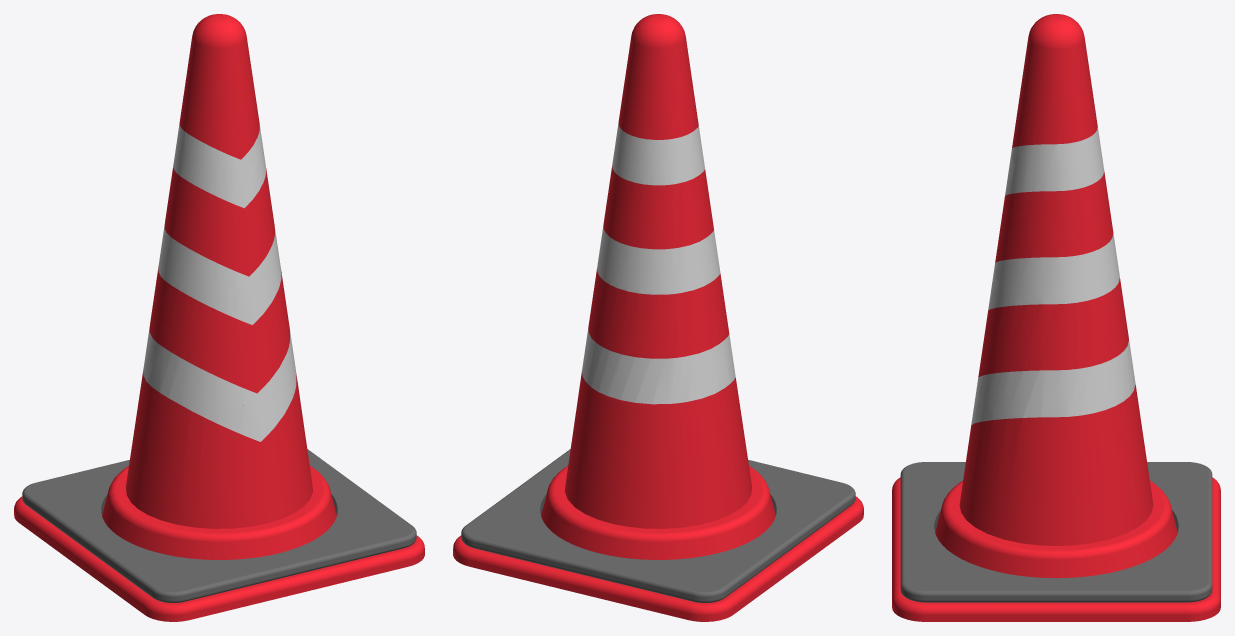
File: カラーコーン.fbx
The picture shows the model from 3 angles, left to right: view 1: azimuth 30°, elevation 25°; view 2: azimuth 150°, elevation 25°; view 3: azimuth 270°, elevation 25°; orthographic projection. The views are drawn at different scales.
Parts seen in each view (by area): view 1: Body2, Body3, Body1; view 2: Body2, Body3, Body1; view 3: Body2, Body3, Body1.
Part boxes in pixels (x1,y1,x2,y2): Body2: [102, 14, 336, 559]; Body3: [22, 449, 416, 602]; Body1: [14, 496, 424, 621]; Body2: [541, 14, 775, 559]; Body3: [461, 449, 855, 602]; Body1: [453, 496, 863, 621]; Body2: [935, 14, 1177, 578]; Body3: [900, 462, 1212, 602]; Body1: [892, 477, 1220, 621].
Bounding box in the file's own units: 39 × 70 × 39.
